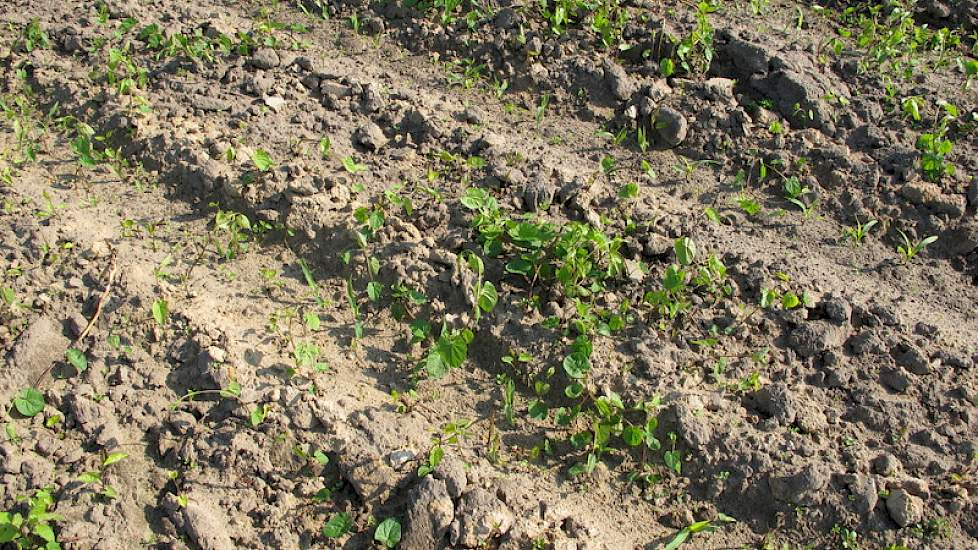haagwinde: (421, 164, 503, 369), (327, 186, 393, 327), (12, 331, 93, 422), (129, 282, 188, 341), (222, 129, 279, 186)
